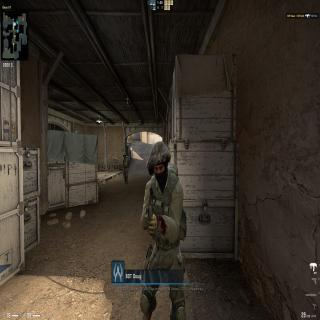CT-Head: (147, 142, 170, 184), (123, 152, 126, 158)
